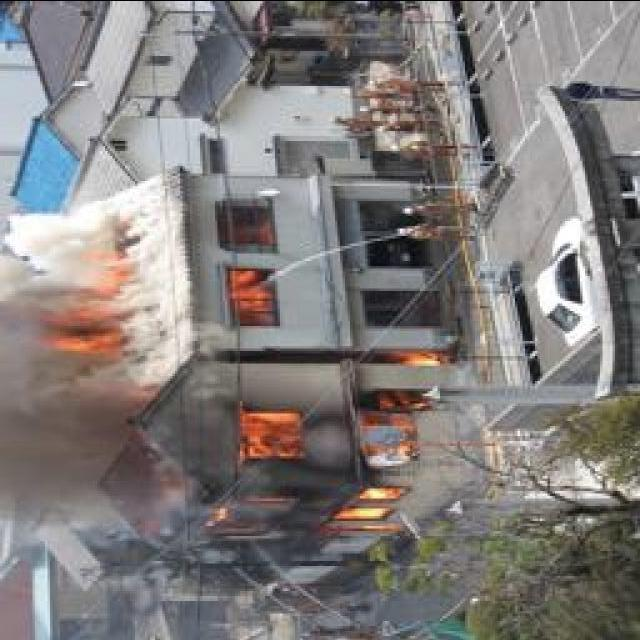Fire: (188, 346, 444, 549), (55, 228, 133, 372), (222, 241, 276, 324)
